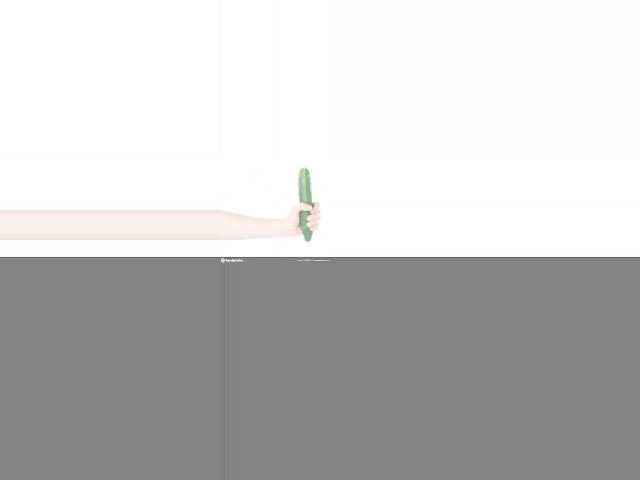cucumber: (298, 168, 313, 243)
